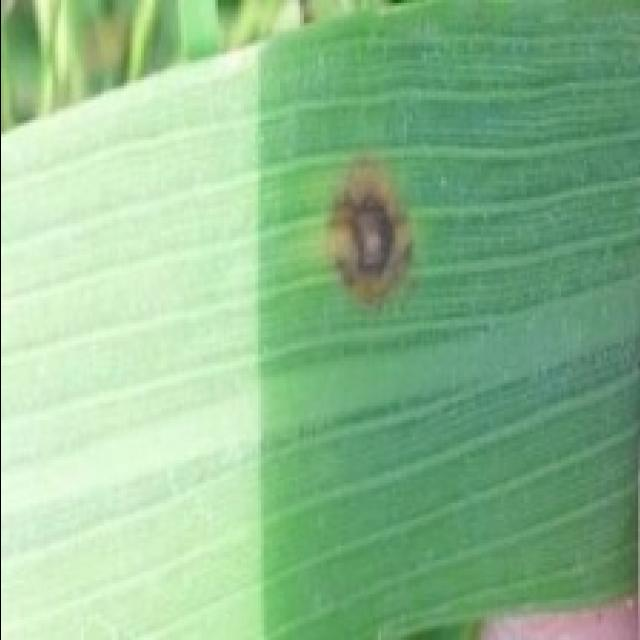Unhealthy: (325, 158, 413, 307)
